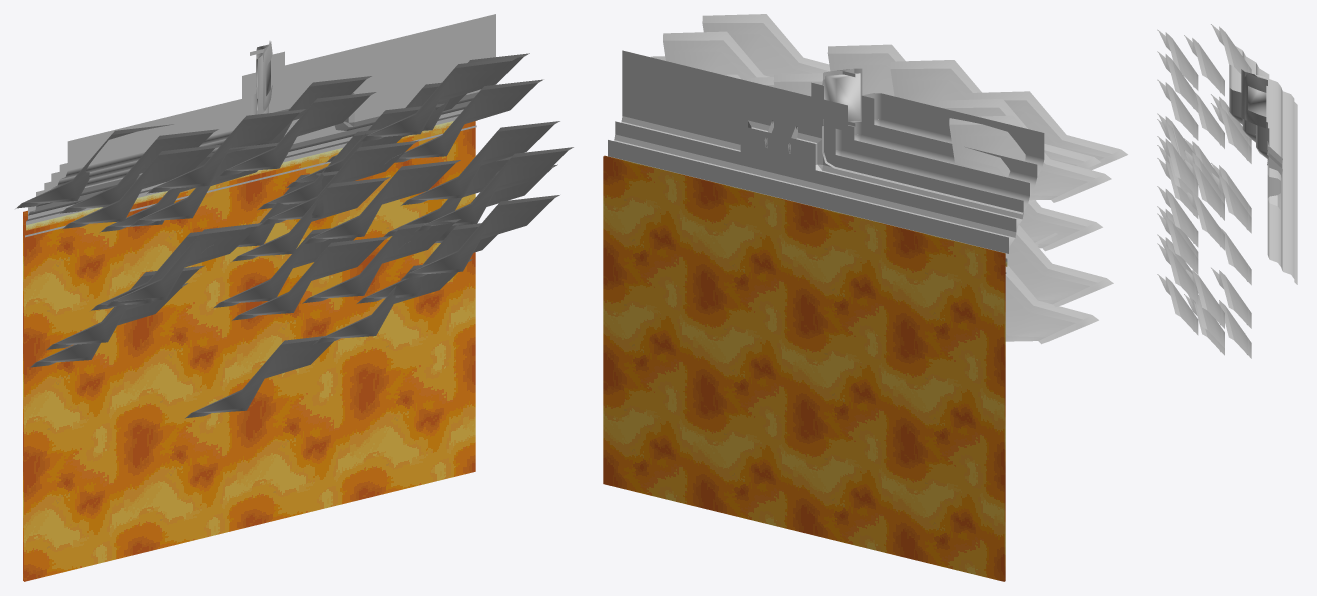
File: Mount-Undara-1_00_02.obj
The picture shows the model from 3 angles, left to right: view 1: azimuth 30°, elevation 25°; view 2: azimuth 150°, elevation 25°; view 3: azimuth 270°, elevation 25°; orthographic projection. The views are drawn at different scales.
Parts seen in each view (by area): view 1: map; view 2: map; view 3: map.
Part boxes in pixels (box(x1,y1,x2,y2)): map: box(15, 14, 573, 581); map: box(603, 14, 1127, 581); map: box(1157, 24, 1297, 358).
Size of the model in its own units: 38.18 by 34.01 by 10.9.
